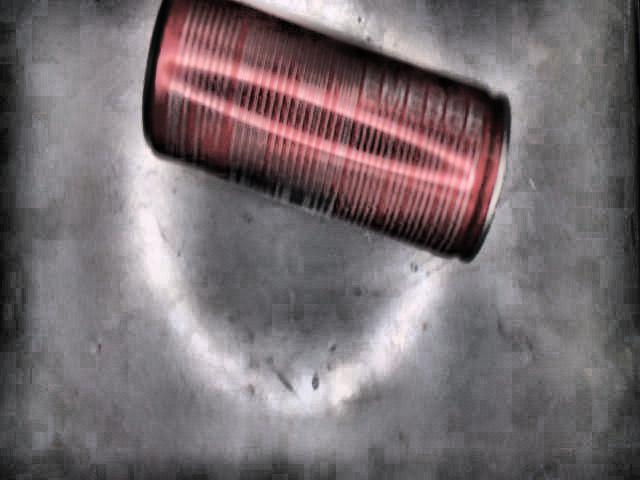Bottles: (141, 0, 511, 265)
